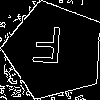F: (29, 25, 64, 73)
